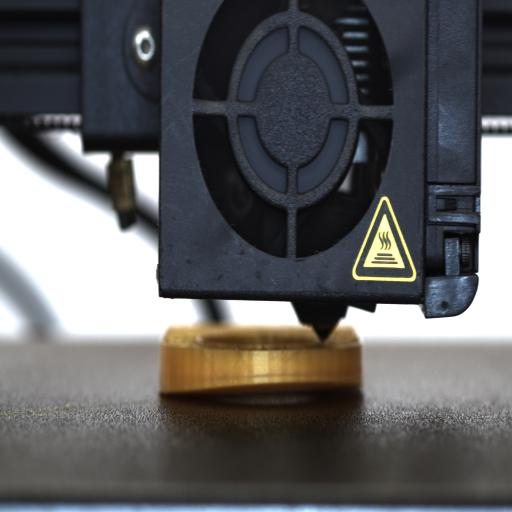warp: (159, 371, 363, 409)
